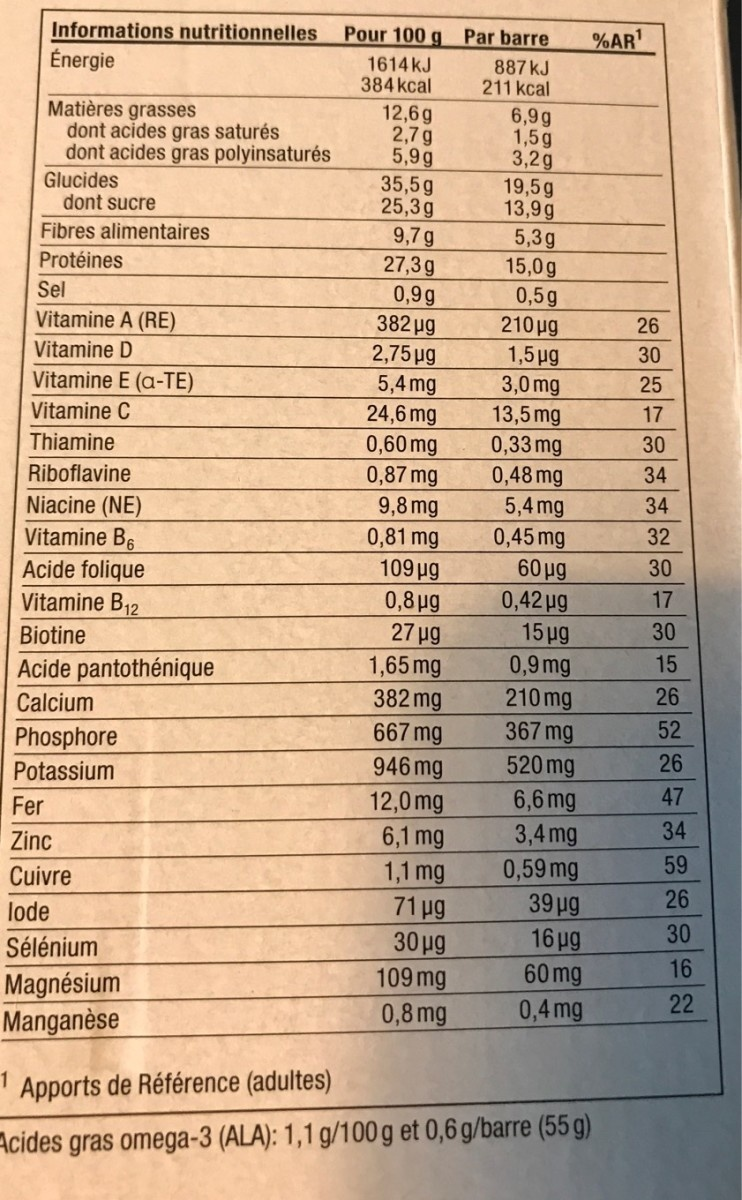column: (8, 14, 339, 1035), (464, 24, 583, 1028), (592, 24, 697, 1021), (348, 19, 445, 1030)
table: (1, 3, 742, 1115)
